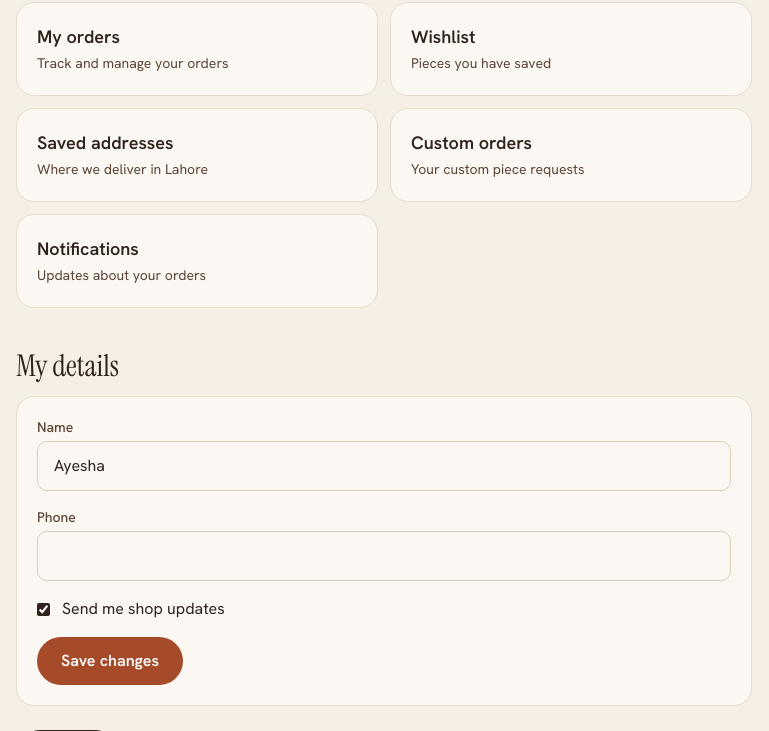
shows a validation message on 422
(page scrolled)
Click the button "Save changes": (110, 661) x1=37 y1=637 x2=183 y2=685
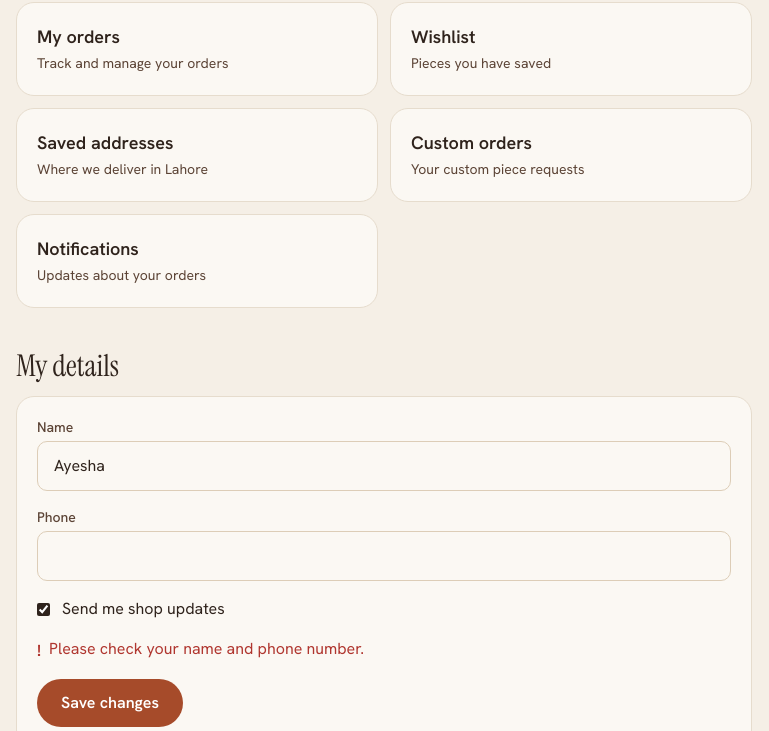
Result: the message shows "check your name and phone" at x1=49 y1=638 x2=364 y2=659
